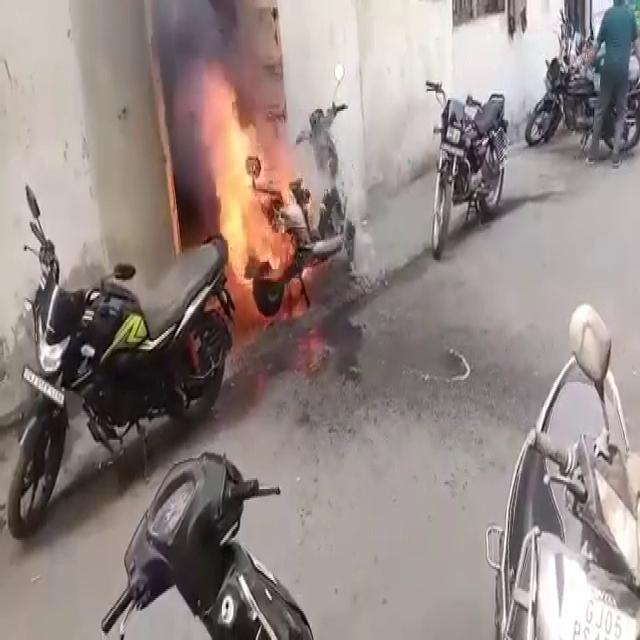Fire: (198, 65, 302, 311)
